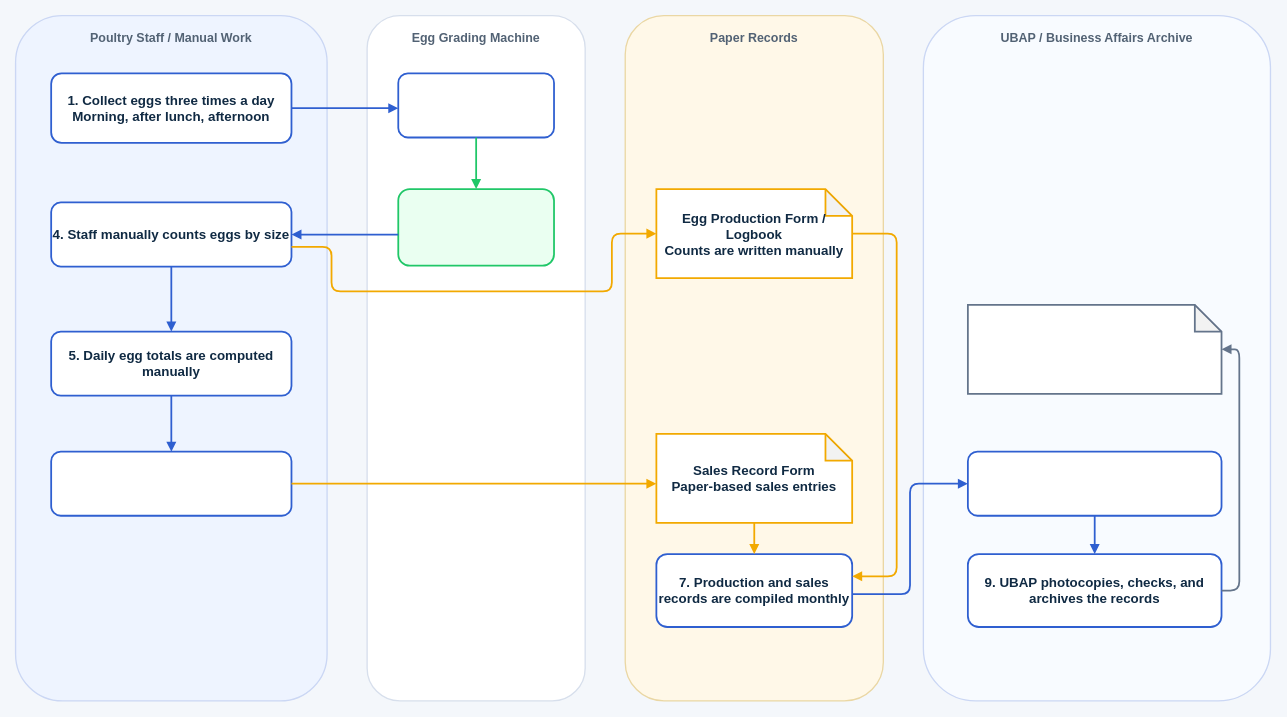
Image size: 1287x717. Some labels were removed from this diagram. Each missing label, with the centre of its shape:
"2. Place eggs into grading machine" goes at point (475, 105).
"3. Machine lines up eggs by corresponding size" goes at point (475, 227).
"6. Sales transactions are written on paper" goes at point (171, 483).
"8. Monthly records are submitted to UBAP" goes at point (1094, 483).
"UBAP Archive Copy Photocopied records for checking and storage" goes at point (1094, 348).
